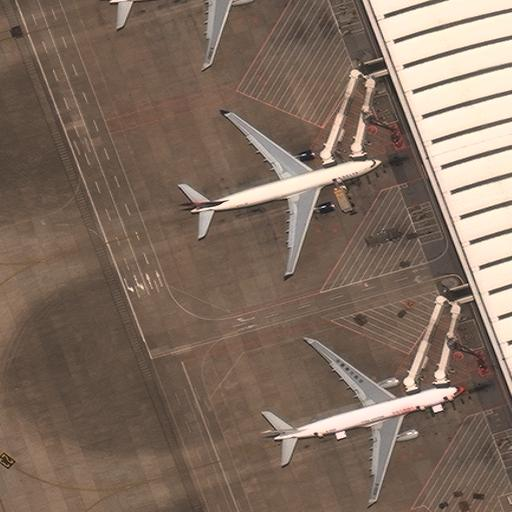Large Civil Transport: (261, 338, 464, 502), (178, 111, 381, 274), (101, 0, 264, 65)
